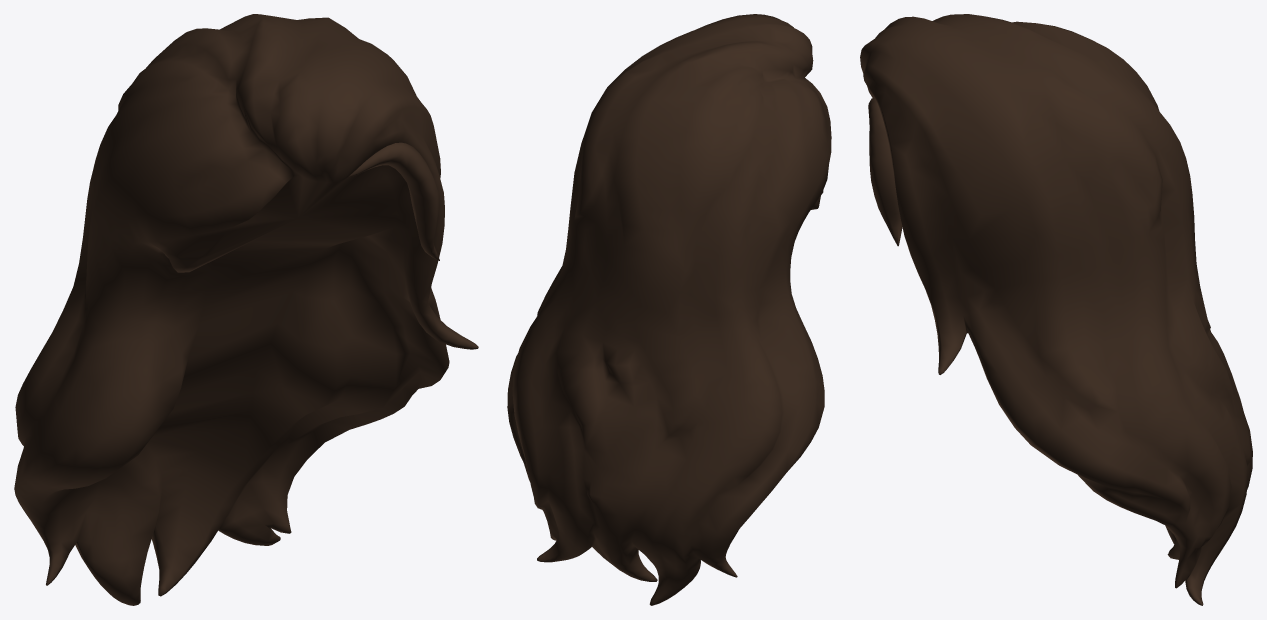
The model's file is hair_w03.glb.
The picture shows the model from 3 angles, left to right: view 1: azimuth 30°, elevation 25°; view 2: azimuth 150°, elevation 25°; view 3: azimuth 270°, elevation 25°; orthographic projection. The views are drawn at different scales.
Parts seen in each view (by area): view 1: hair_w03; view 2: hair_w03; view 3: hair_w03.
Boxes of the visible parts, x1=… form: hair_w03: x1=14, y1=14, x2=478, y2=605; hair_w03: x1=507, y1=14, x2=831, y2=605; hair_w03: x1=860, y1=14, x2=1252, y2=605.
Bounding box in the file's own units: 0.2527 × 0.409 × 0.2637.
